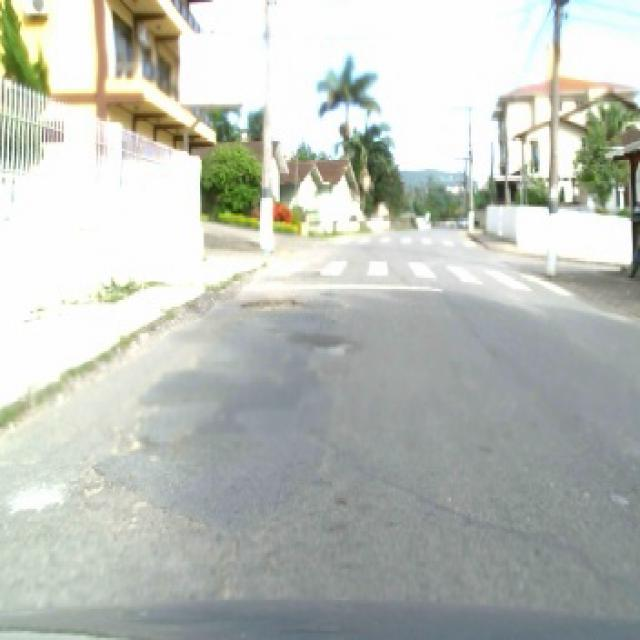Poth-hole: (80, 364, 175, 502), (296, 331, 366, 356), (10, 484, 66, 514), (238, 294, 320, 314)
